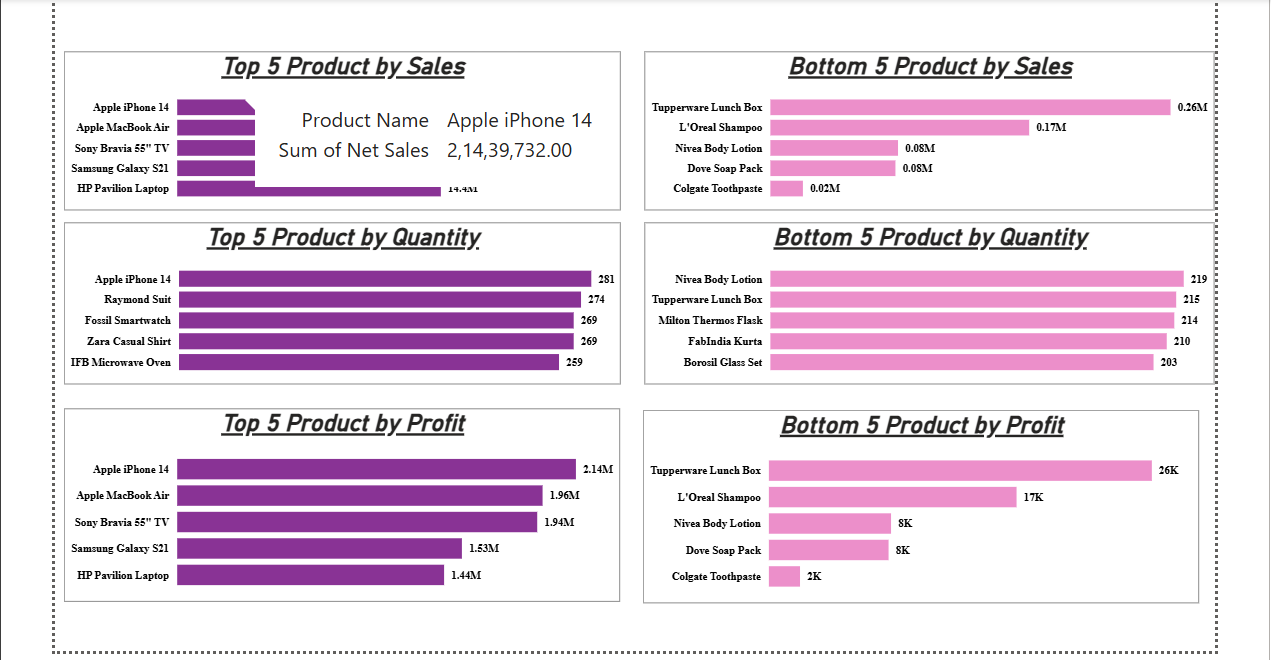

What the dashboard file says about the page in this screenshot:
{"tool":"powerbi","page":{"name":"Top/Bottom 5 Analysis","canvas":[1280,720],"ordinal":0},"visuals":[{"type":"barChart","title":"Top 5 Product by Sales","fields":{"Y":["Sum(Fact Table.Net Sales  )"],"Category":["Dim Product.Product Name"]},"box":[9.9,58,614.6,175.6],"z":0},{"type":"barChart","title":"Bottom 5 Product by Sales","fields":{"Y":["Sum(Fact Table.Net Sales  )"],"Category":["Dim Product.Product Name"]},"box":[651,58,629.5,175.6],"z":1000},{"type":"barChart","title":"Top 5 Product by Quantity","fields":{"Category":["Dim Product.Product Name"],"Y":["Sum(Fact Table.Units Sold)"]},"box":[9.9,246.8,614.6,178.9],"z":2000},{"type":"barChart","title":"Bottom 5 Product by Quantity","fields":{"Category":["Dim Product.Product Name"],"Y":["Sum(Fact Table.Units Sold)"]},"box":[651,246.8,629.5,178.9],"z":3000},{"type":"barChart","title":"Top 5 Product by Profit","fields":{"Category":["Dim Product.Product Name"],"Y":["Sum(Fact Table.Profit)"]},"box":[9.4,451.7,614.2,213.5],"z":4000},{"type":"barChart","title":"Bottom 5 Product by Profit","fields":{"Category":["Dim Product.Product Name"],"Y":["Sum(Fact Table.Profit)"]},"box":[650.1,453.5,614.2,213.5],"z":5000}]}

Visuals, with their boxes on the page's 1280x720 design canvas (x1, y1, x2, y2). These are canvas units, not pixel positions in the 1271x660 screenshot, which may show the page scaled, cropped or inside an application window:
"Top 5 Product by Sales" barChart: left=10, top=58, right=624, bottom=234
"Bottom 5 Product by Sales" barChart: left=651, top=58, right=1280, bottom=234
"Top 5 Product by Quantity" barChart: left=10, top=247, right=624, bottom=426
"Bottom 5 Product by Quantity" barChart: left=651, top=247, right=1280, bottom=426
"Top 5 Product by Profit" barChart: left=9, top=452, right=624, bottom=665
"Bottom 5 Product by Profit" barChart: left=650, top=454, right=1264, bottom=667
